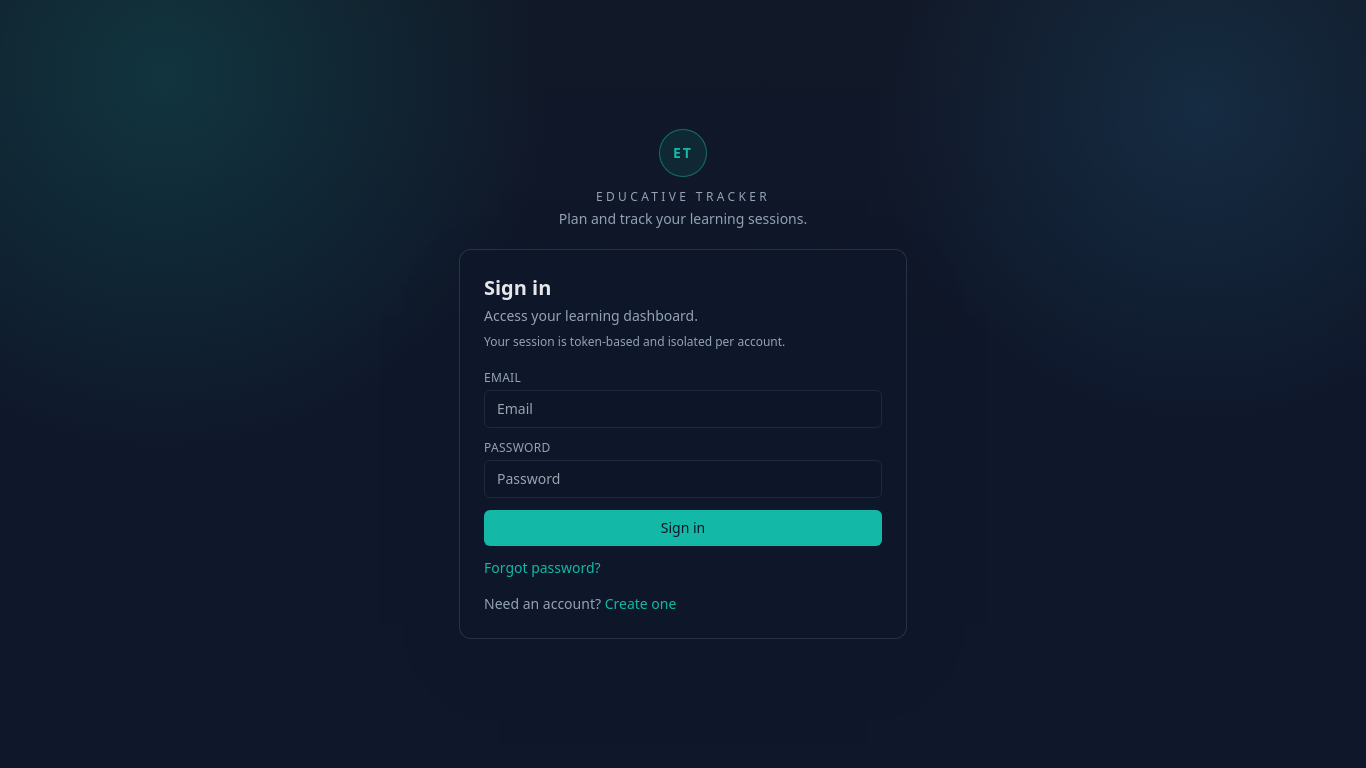
Test: Frontend auth integration › shows login error on invalid credentials
The image size is (1366, 768).
Type "bad@example.com" into the field with placeholder "Email" at (683, 409), box [484,390,882,428]
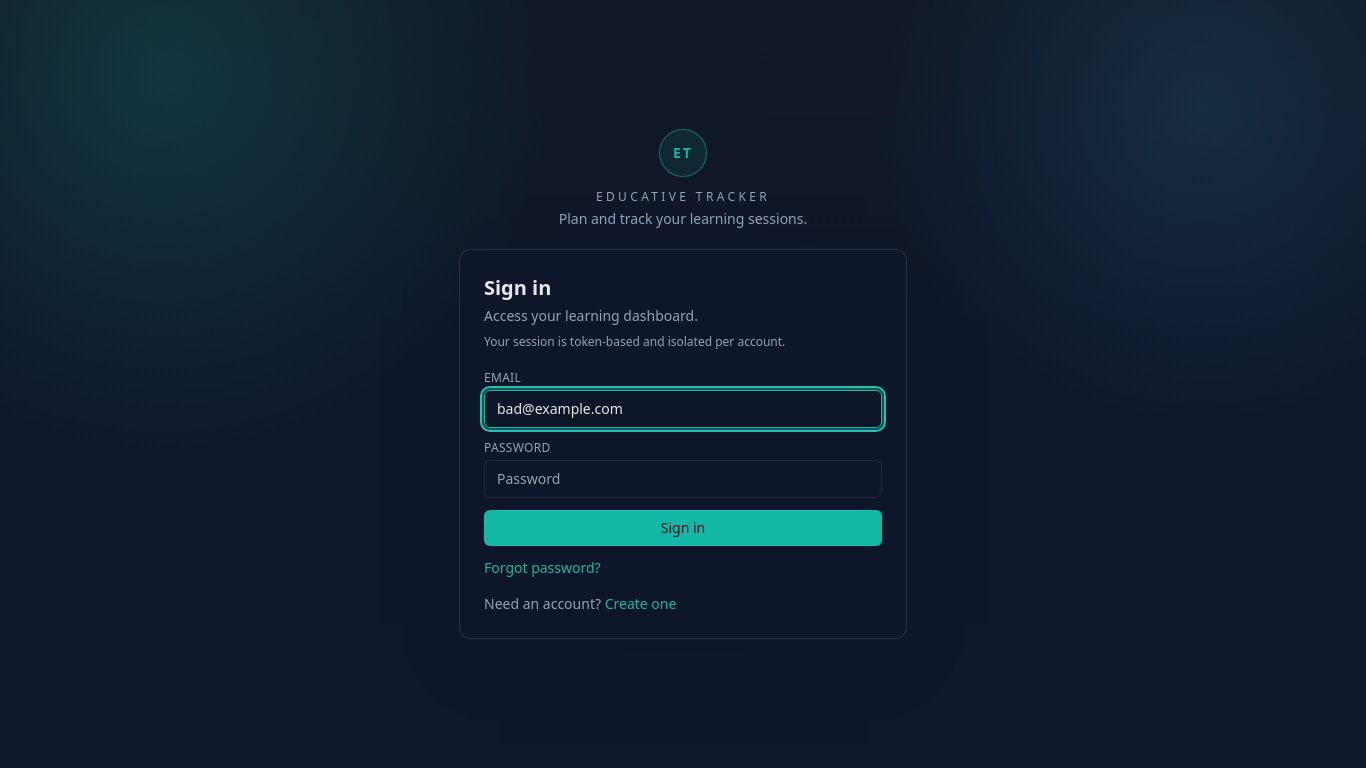
Type "wrong-password" into the password field with placeholder "Password" at (683, 479), box [484,460,882,498]
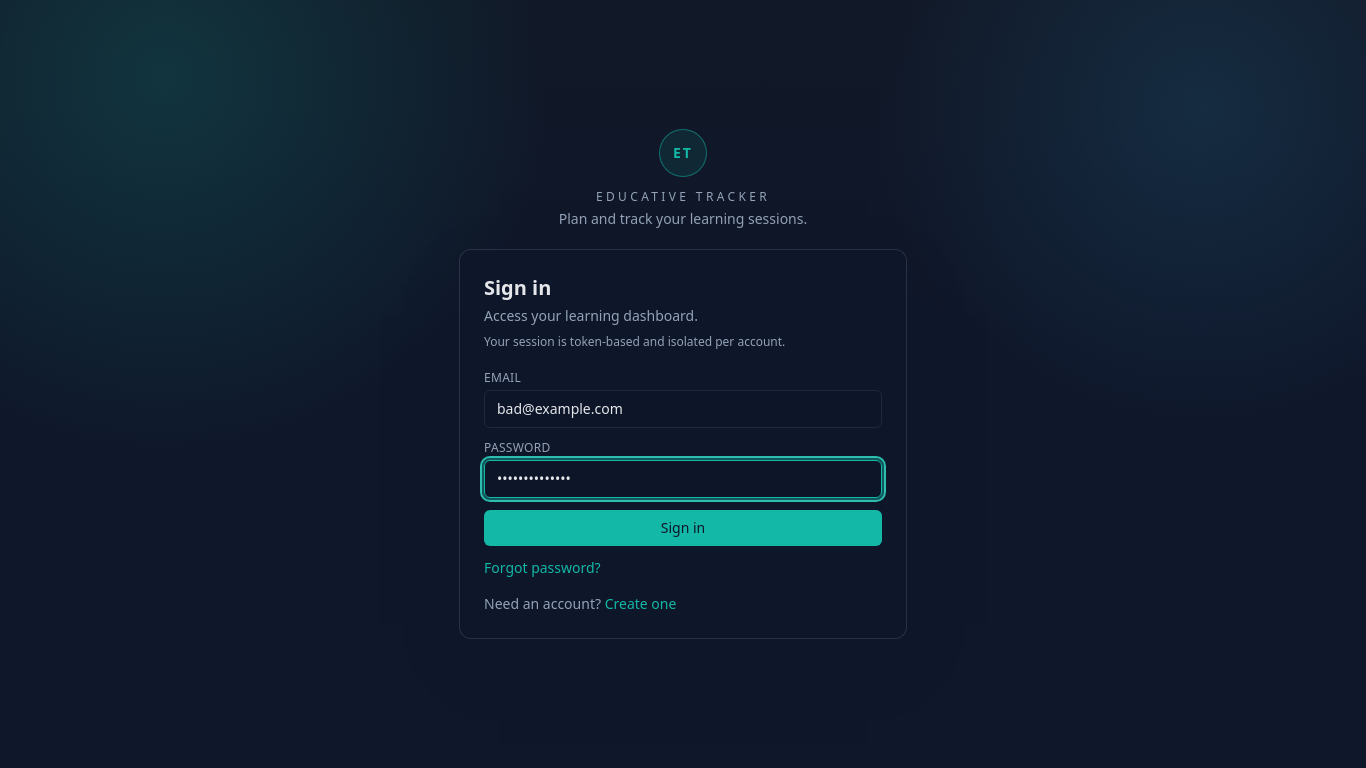
Click the button "Sign in" at (683, 528), box [484,510,882,546]
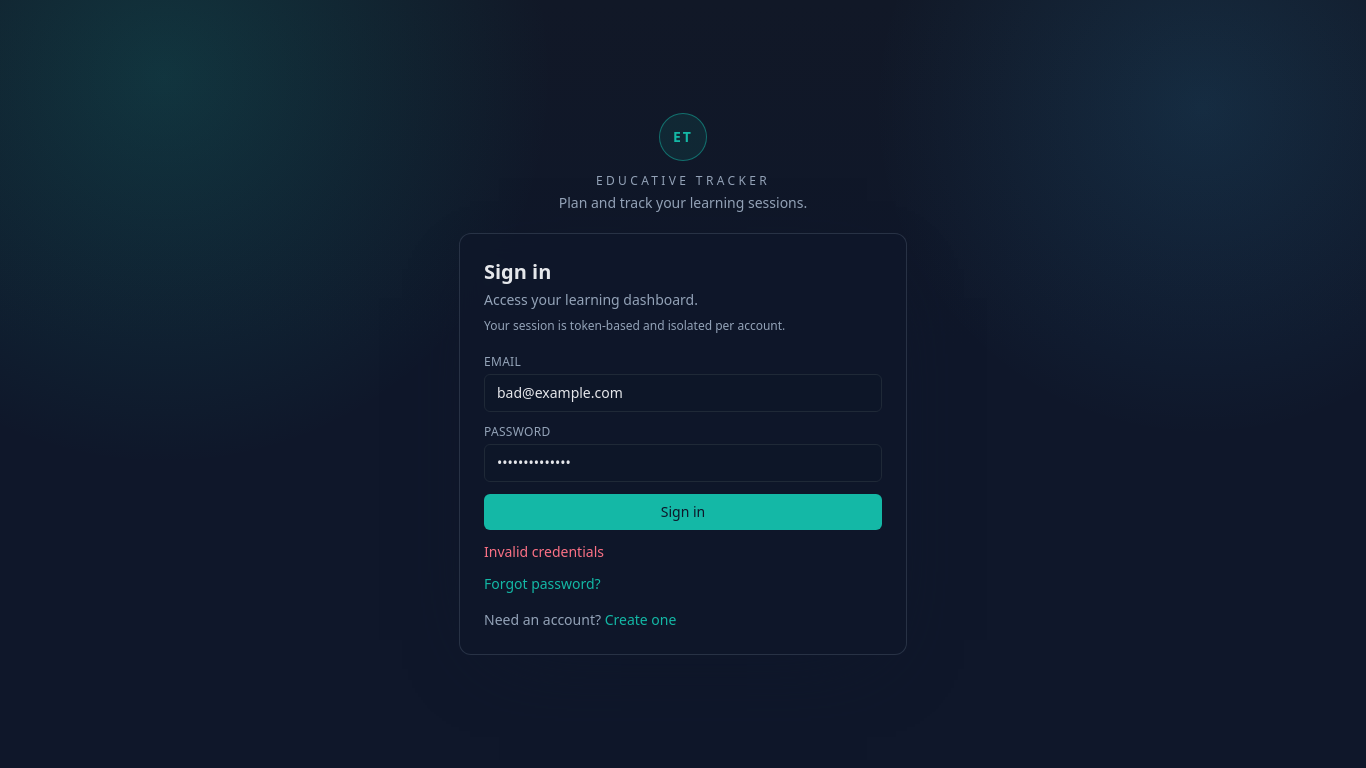
Check: the text "Invalid credentials" is shown, box [484,542,604,561]
